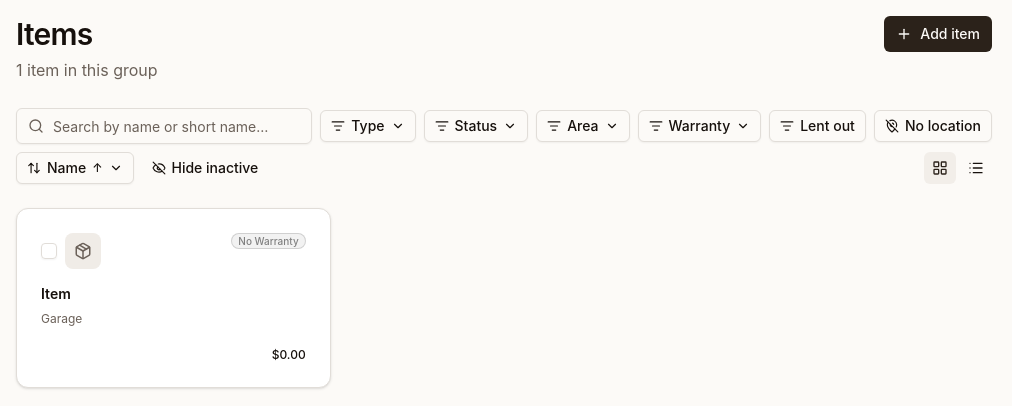
Scenario: <CommoditiesListPage /> › toggles between grid and list view
The image size is (1012, 406).
Check: the element with test id "commodity-card" is shown, box left=16, top=208, right=331, bottom=388
Click the button with test id "commodities-view-list" at (976, 168), box left=960, top=152, right=992, bottom=184
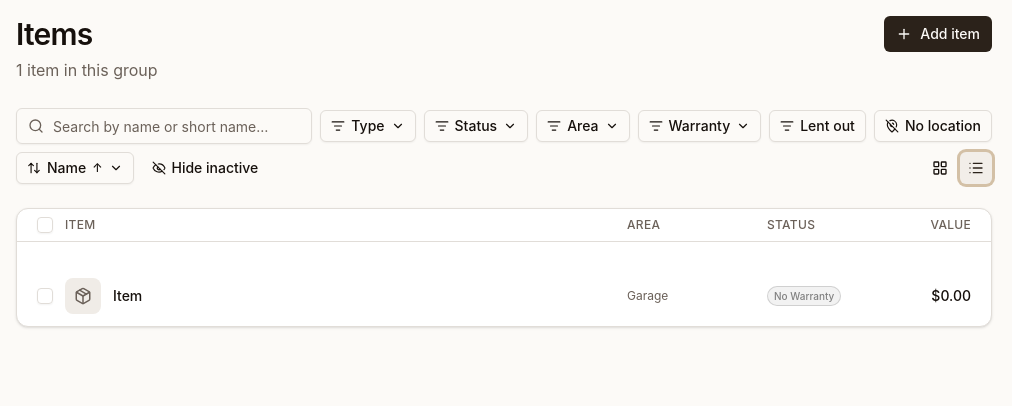
Check: the element with test id "commodities-table" is shown, box left=16, top=208, right=992, bottom=327
Check: the element with test id "commodities-grid" is gone
